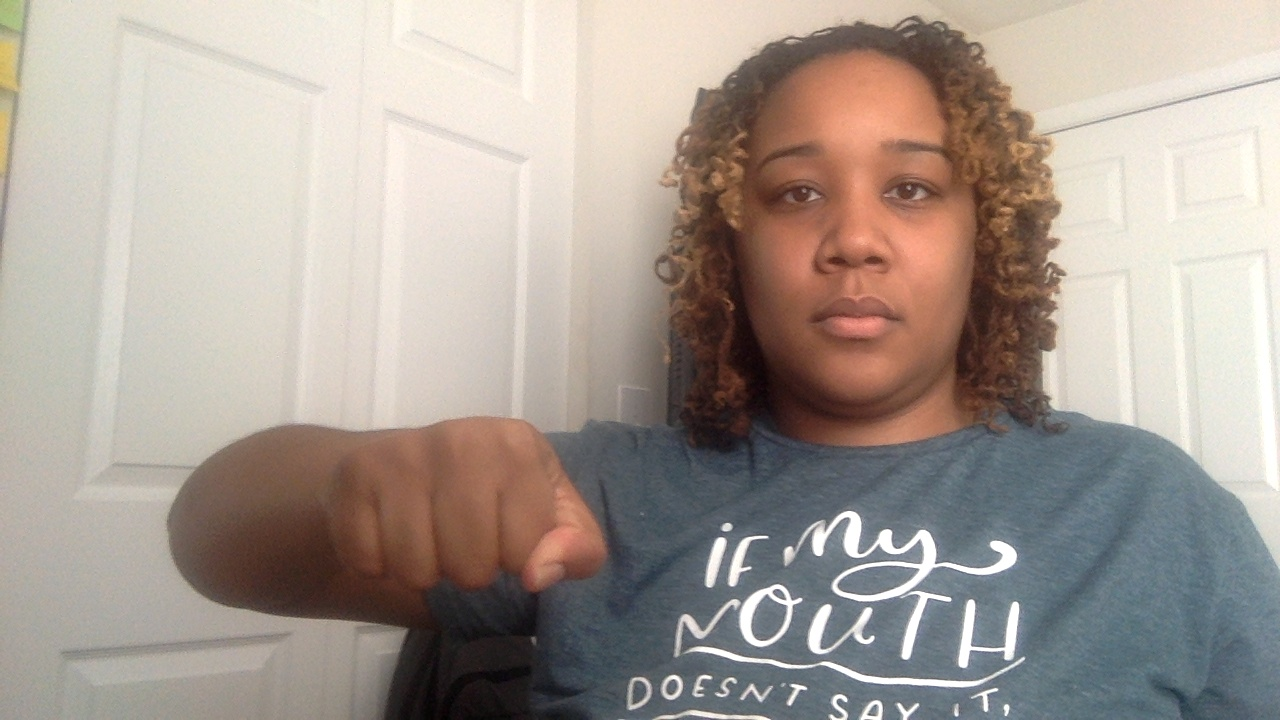yes: (296, 400, 613, 621)
